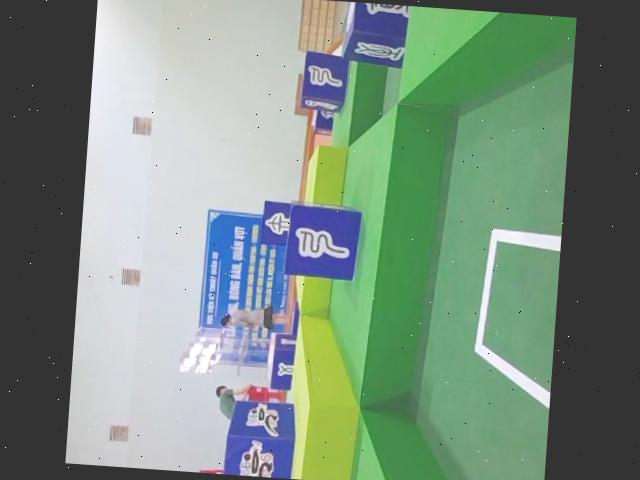R1 Blue: (221, 400, 297, 479)
R2 Fake Blue: (282, 202, 363, 282), (340, 1, 412, 66), (299, 50, 349, 111), (258, 199, 290, 245)
R2 Real Blue: (269, 331, 297, 390)
